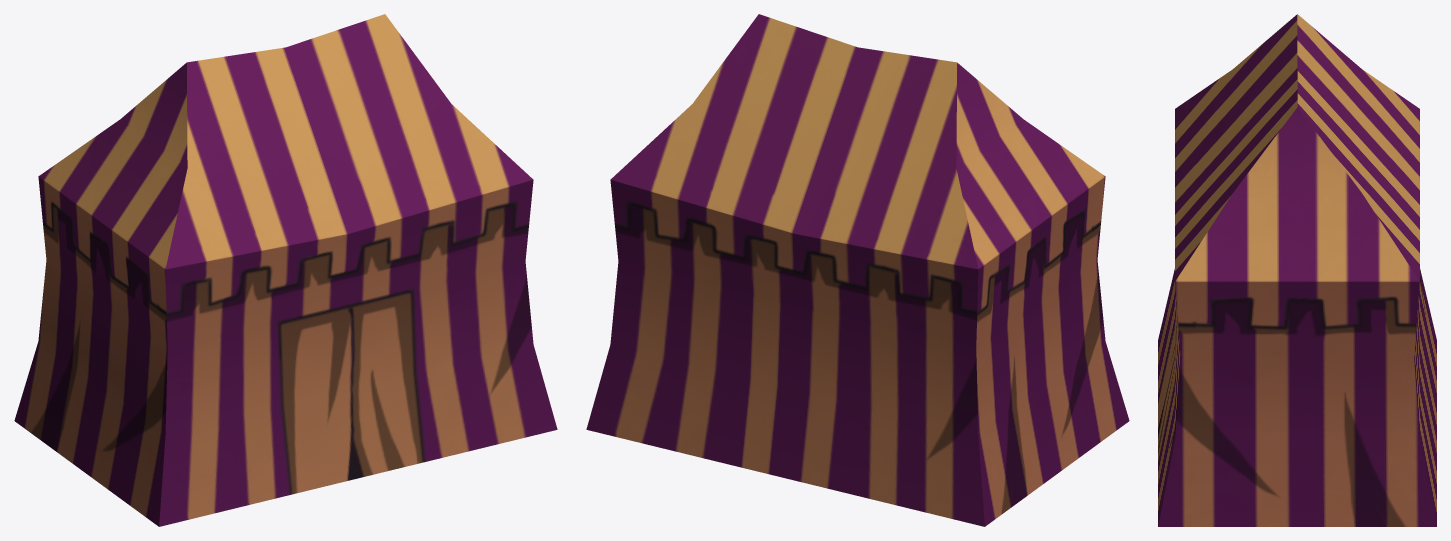
Rendered from arena_11.FBX.
3 views of the same model, side by side, from view 1: azimuth 30°, elevation 25°; view 2: azimuth 150°, elevation 25°; view 3: azimuth 270°, elevation 25° (orthographic). The views are drawn at different scales.
Parts seen in each view (by area): view 1: Box006; view 2: Box006; view 3: Box006.
Boxes of the visible parts, x1,y1,x2,y2 form: Box006: (14, 14, 557, 526); Box006: (586, 14, 1129, 526); Box006: (1158, 14, 1436, 526).
Size of the model in its own units: 644 by 598 by 405.
